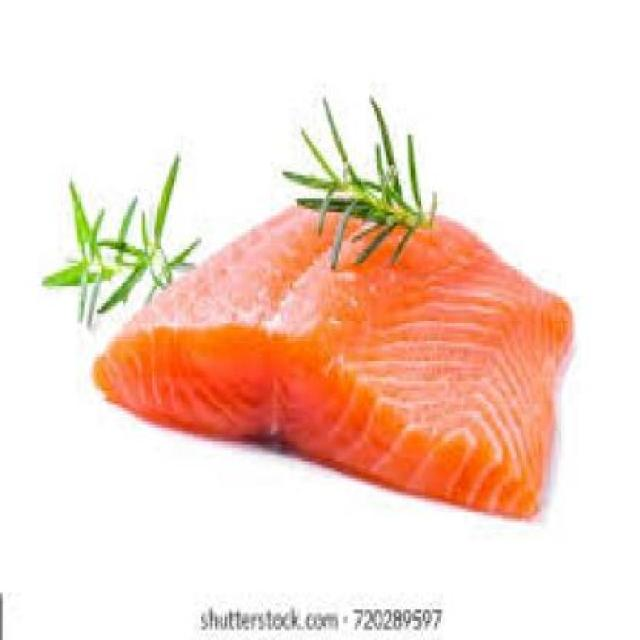salmon: (88, 182, 604, 552)
